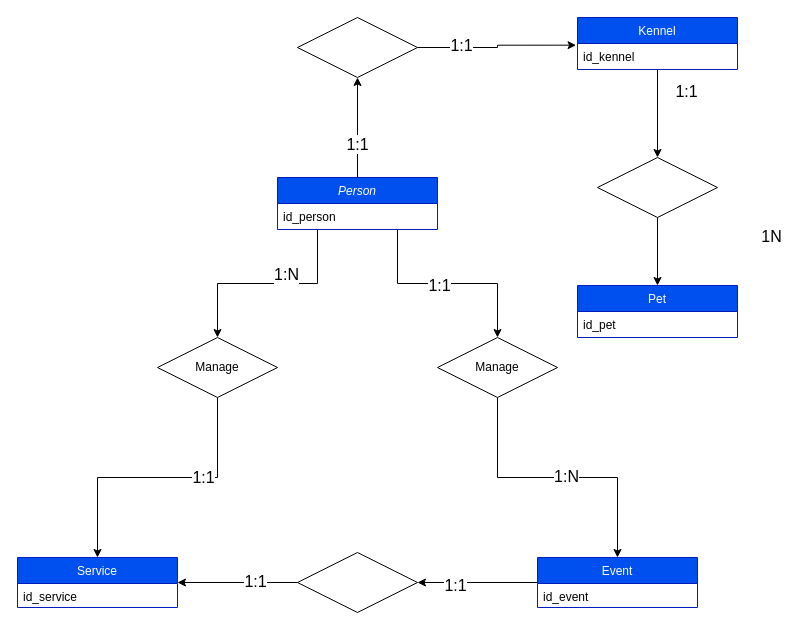
The diagram is 809 pixels wide and 630 high, and some of its shapes have lost their labels. Here are the shapes that lost their labels. From the top down, the centre of each, then its label:
[357,47]: Administer
[657,187]: Host
[357,582]: present
